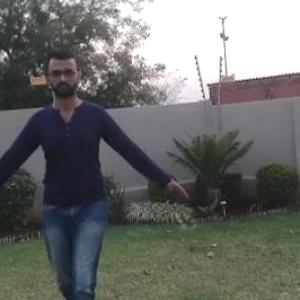land: (1, 62, 164, 299)
